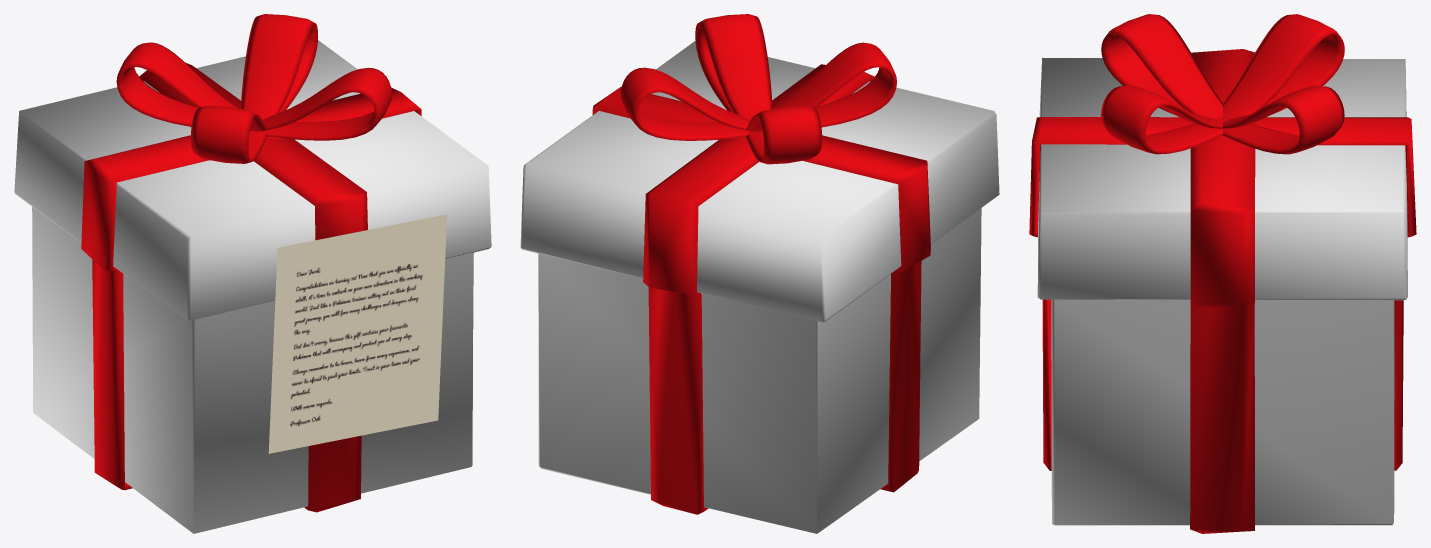
Rendered from gift.glb.
3 renders of one model, left to right at view 1: azimuth 30°, elevation 25°; view 2: azimuth 150°, elevation 25°; view 3: azimuth 270°, elevation 25°, orthographic. The views are drawn at different scales.
Visible parts, largest first — view 1: gift; view 2: gift; view 3: gift.
Part boxes in pixels (x1,y1,x2,y2): gift: (14, 14, 491, 533); gift: (520, 14, 999, 533); gift: (1029, 14, 1416, 533).
Size of the model in its own units: 1.14 by 1.31 by 1.14.
3 materials, 1 textured.
